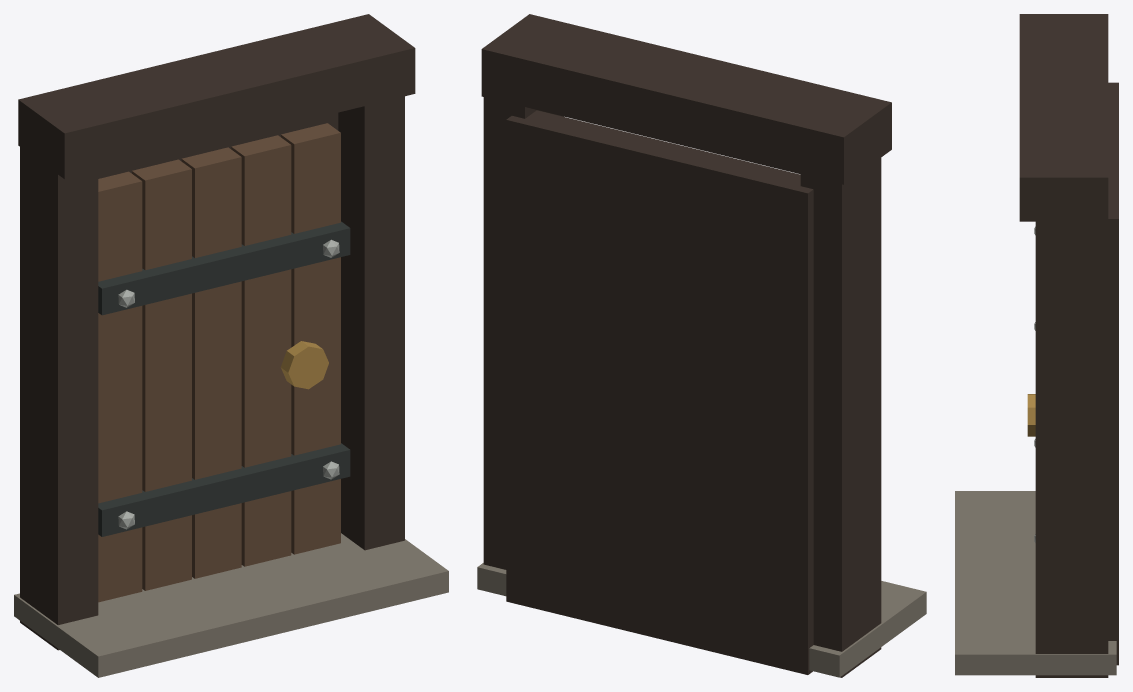
The model's file is door_reinforced.glb.
3 renders of one model, left to right at view 1: azimuth 30°, elevation 25°; view 2: azimuth 150°, elevation 25°; view 3: azimuth 270°, elevation 25°, orthographic. The views are drawn at different scales.
Parts seen in each view (by area): view 1: jamb, lintel, jamb.001, threshold, door plank.003, door plank.002, door plank.001, door plank.004, door plank, iron strap.001, iron strap, recess (+1 smaller); view 2: recess, lintel, jamb, jamb.001, threshold; view 3: jamb.001, lintel, threshold, recess, door ring.
Boxes of the visible parts, left/top/right/bottom form: jamb: left=20, top=147, right=98, bottom=650; lintel: left=18, top=14, right=415, bottom=179; jamb.001: left=338, top=96, right=404, bottom=550; threshold: left=14, top=533, right=448, bottom=677; door plank.003: left=231, top=135, right=291, bottom=566; door plank.002: left=181, top=147, right=241, bottom=578; door plank.001: left=132, top=159, right=191, bottom=590; door plank.004: left=281, top=123, right=340, bottom=554; door plank: left=98, top=171, right=142, bottom=602; iron strap.001: left=98, top=221, right=350, bottom=315; iron strap: left=98, top=443, right=350, bottom=536; recess: left=98, top=112, right=338, bottom=178; recess: left=506, top=110, right=813, bottom=674; lintel: left=481, top=14, right=891, bottom=184; jamb: left=800, top=155, right=881, bottom=677; jamb.001: left=483, top=77, right=563, bottom=569; threshold: left=477, top=563, right=926, bottom=677; jamb.001: left=1035, top=221, right=1108, bottom=677; lintel: left=1019, top=14, right=1108, bottom=221; threshold: left=955, top=491, right=1116, bottom=675; recess: left=1108, top=82, right=1118, bottom=665; door ring: left=1027, top=394, right=1035, bottom=436.
Bounding box in the file's own units: 0.48 × 0.685 × 0.203.
